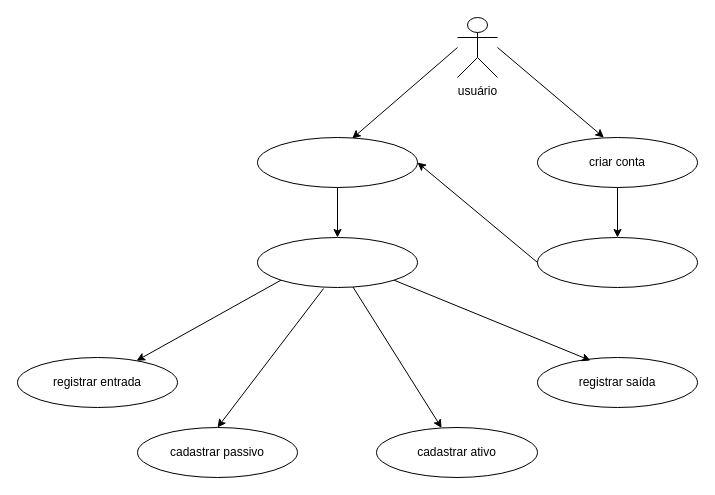
Image size: 715x495. Some labels were removed from this diagram. The box of each missing label's shape, as (x1, y1, x2, y2) in pixels:
dashboard: (256, 236, 418, 288)
login: (256, 136, 418, 188)
verificar cadastro: (536, 236, 698, 288)
